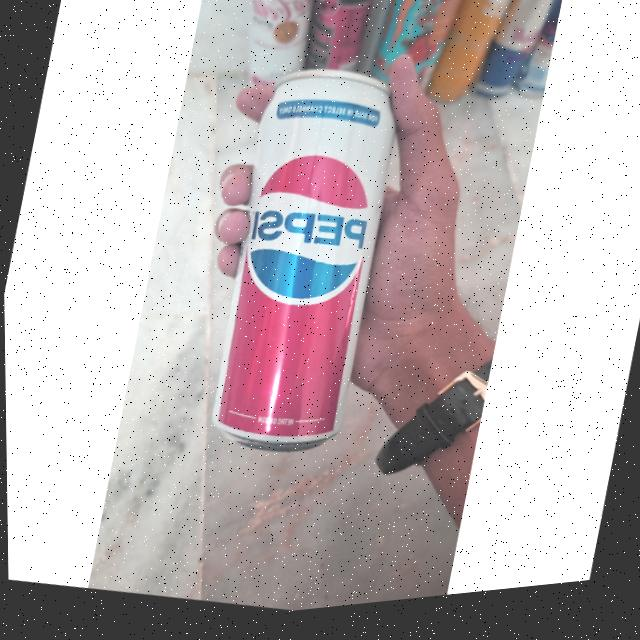Pepsi Retro: (188, 51, 419, 491)
